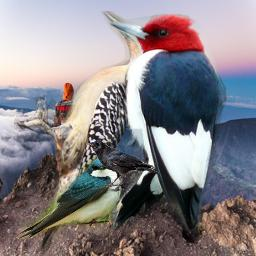Crow: (88, 140, 159, 192)
Swallow: (17, 157, 122, 239)
Woodpecker: (14, 11, 178, 255), (108, 7, 227, 238)
